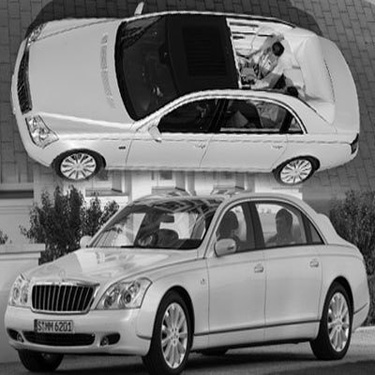car: (5, 187, 368, 358), (13, 9, 361, 185)
